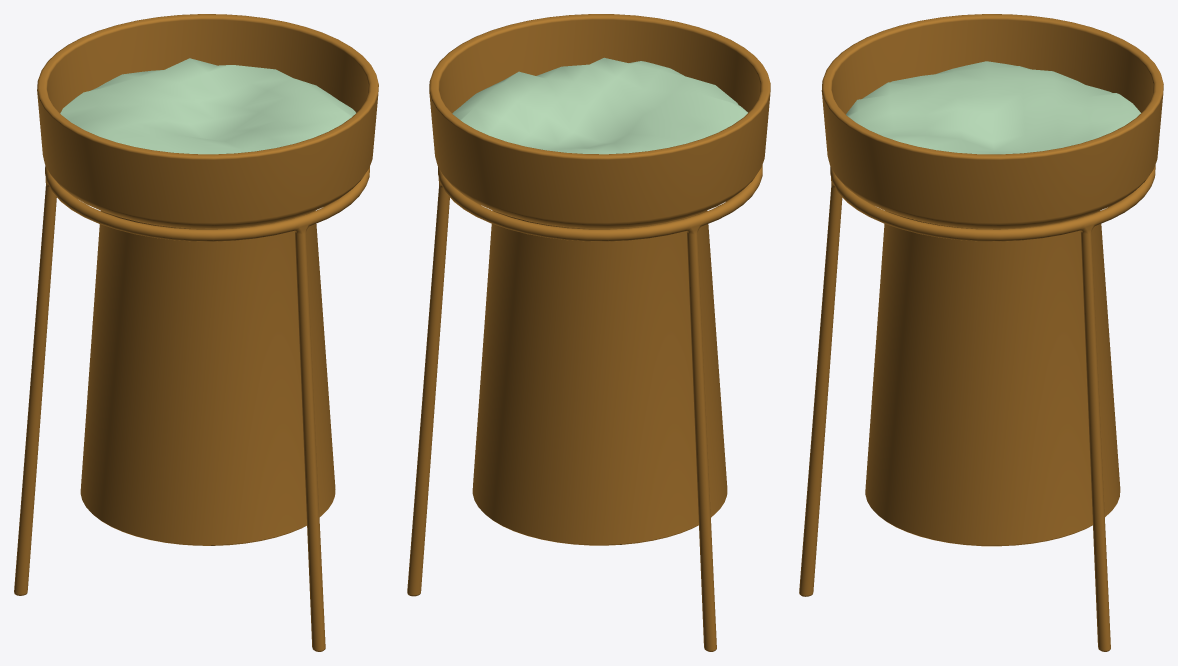
Rendered from Pot01.fbx.
3 views of the same model, side by side, from view 1: azimuth 30°, elevation 25°; view 2: azimuth 150°, elevation 25°; view 3: azimuth 270°, elevation 25° (orthographic).
Visible parts, largest first — view 1: StructureOBJ:Mesh43, StructureOBJ:Mesh44; view 2: StructureOBJ:Mesh43, StructureOBJ:Mesh44; view 3: StructureOBJ:Mesh43, StructureOBJ:Mesh44.
Part boxes in pixels (x1,y1,x2,y2): StructureOBJ:Mesh43: (14,14,378,651); StructureOBJ:Mesh44: (60,58,355,154); StructureOBJ:Mesh43: (407,14,770,651); StructureOBJ:Mesh44: (452,57,747,154); StructureOBJ:Mesh43: (799,14,1163,651); StructureOBJ:Mesh44: (846,61,1140,154).
Size of the model in its own units: 0.4457 by 0.7043 by 0.4647.
